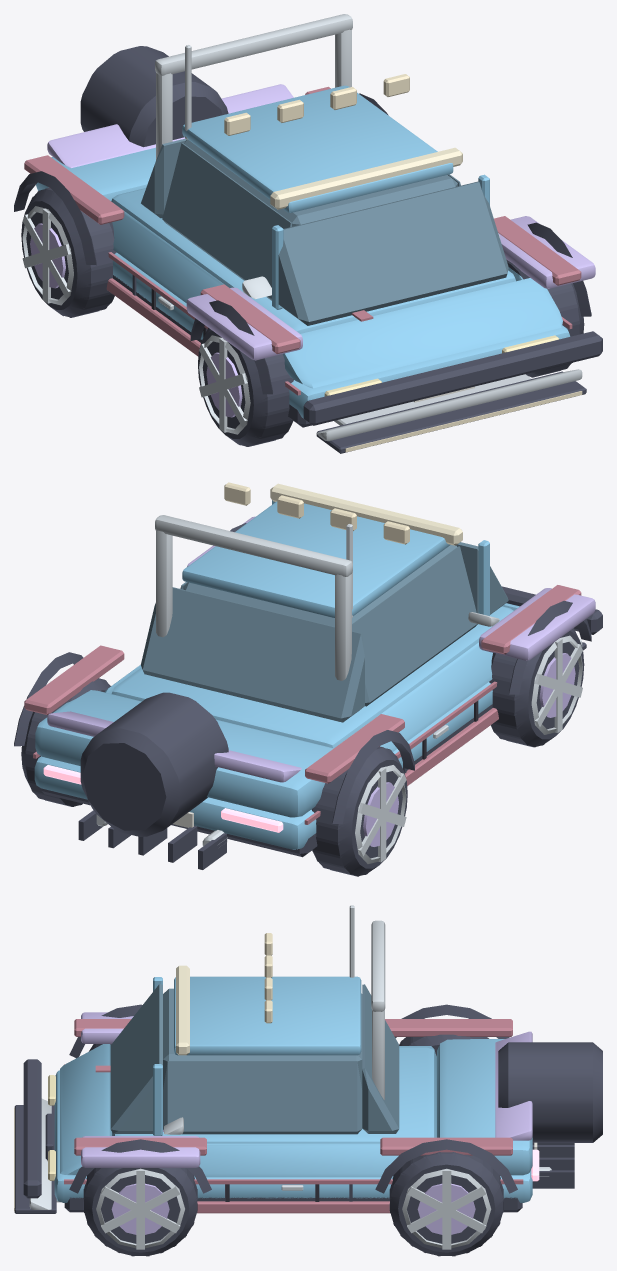
File: dune_dart.fbx
3 renders of one model, top to bottom at view 1: azimuth 30°, elevation 25°; view 2: azimuth 150°, elevation 25°; view 3: azimuth 270°, elevation 25°, orthographic. The views are drawn at different scales.
Parts seen in each view (by area): view 1: Body, Glass, Trim, Accent2, Accent, Accent3, Metal, Wheel_RR, Wheel_FR, Light, Light4, Metal2 (+2 smaller); view 2: Body, Glass, Trim, Accent, Accent2, Metal, Accent3, Wheel_RR, Wheel_FR, Light4, Light, Metal2 (+2 smaller); view 3: Body, Glass, Trim, Accent, Metal, Wheel_RL, Accent3, Wheel_FL, Accent2, Metal2, Light4, Light (+2 smaller).
Boxes of the visible parts, x1=… form: Body: x1=36, y1=85, x2=570, y2=418; Glass: x1=141, y1=138, x2=508, y2=325; Trim: x1=14, y1=46, x2=602, y2=453; Accent2: x1=155, y1=14, x2=582, y2=440; Accent: x1=24, y1=86, x2=581, y2=395; Accent3: x1=47, y1=84, x2=595, y2=360; Metal: x1=22, y1=206, x2=531, y2=434; Wheel_RR: x1=21, y1=187, x2=116, y2=317; Wheel_FR: x1=198, y1=328, x2=293, y2=446; Light: x1=224, y1=74, x2=582, y2=452; Light4: x1=270, y1=147, x2=462, y2=209; Metal2: x1=30, y1=223, x2=242, y2=417; Body: x1=34, y1=500, x2=519, y2=849; Glass: x1=141, y1=542, x2=508, y2=722; Trim: x1=14, y1=523, x2=602, y2=869; Accent: x1=24, y1=585, x2=581, y2=824; Accent2: x1=155, y1=515, x2=582, y2=680; Metal: x1=22, y1=635, x2=582, y2=863; Accent3: x1=47, y1=516, x2=595, y2=782; Wheel_RR: x1=311, y1=746, x2=407, y2=876; Wheel_FR: x1=489, y1=628, x2=584, y2=747; Light4: x1=270, y1=483, x2=462, y2=545; Light: x1=224, y1=482, x2=409, y2=544; Metal2: x1=363, y1=653, x2=575, y2=846; Body: x1=54, y1=976, x2=532, y2=1202; Glass: x1=110, y1=984, x2=399, y2=1134; Trim: x1=14, y1=1004, x2=602, y2=1213; Accent: x1=64, y1=1019, x2=523, y2=1213; Metal: x1=56, y1=1167, x2=551, y2=1249; Wheel_RL: x1=389, y1=1152, x2=503, y2=1256; Accent3: x1=81, y1=1012, x2=532, y2=1167; Wheel_FL: x1=83, y1=1168, x2=197, y2=1256; Accent2: x1=29, y1=905, x2=385, y2=1209; Metal2: x1=111, y1=1183, x2=475, y2=1234; Light4: x1=176, y1=965, x2=189, y2=1055; Light: x1=14, y1=933, x2=272, y2=1211.
Bounding box in the file's own units: 3.46 × 2.77 × 5.91.
